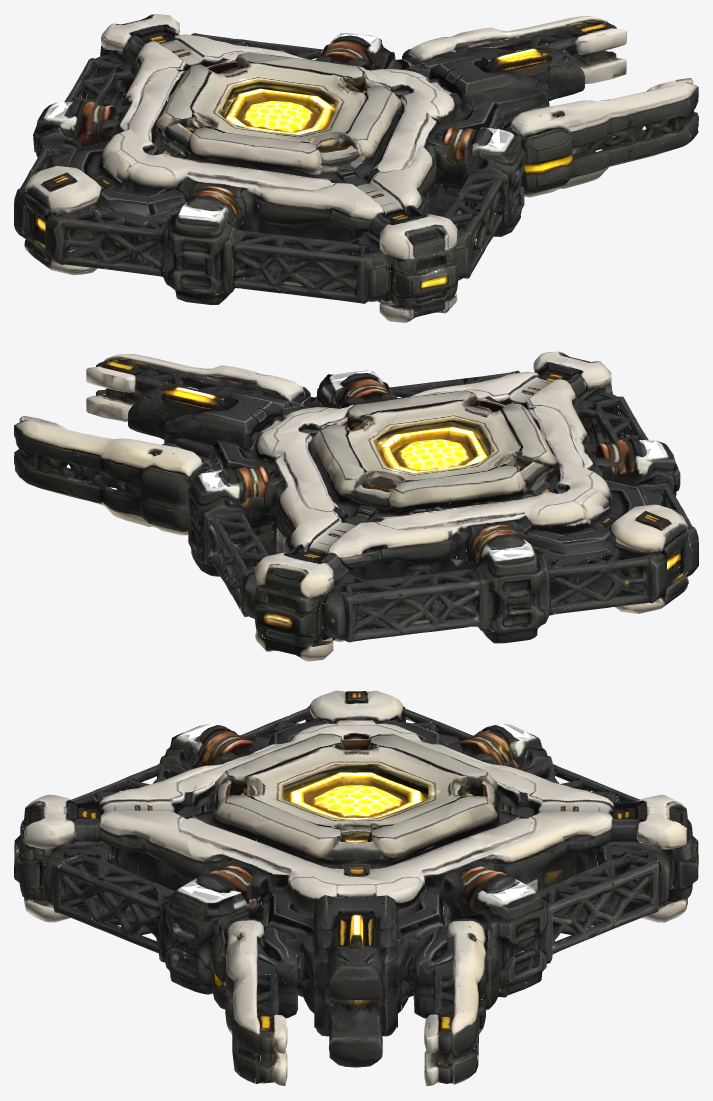
3 renders of one model, top to bottom at view 1: azimuth 30°, elevation 25°; view 2: azimuth 150°, elevation 25°; view 3: azimuth 270°, elevation 25°, orthographic. The views are drawn at different scales.
Visible parts, largest first — view 1: LatticeLoom; view 2: LatticeLoom; view 3: LatticeLoom.
Part boxes in pixels (x1=…): LatticeLoom: x1=14, y1=14, x2=698, y2=322; LatticeLoom: x1=14, y1=351, x2=698, y2=661; LatticeLoom: x1=14, y1=690, x2=698, y2=1086.
Size of the model in its own units: 1.08 by 0.2187 by 0.9309.
Materials: 2 (1 with a texture image).
